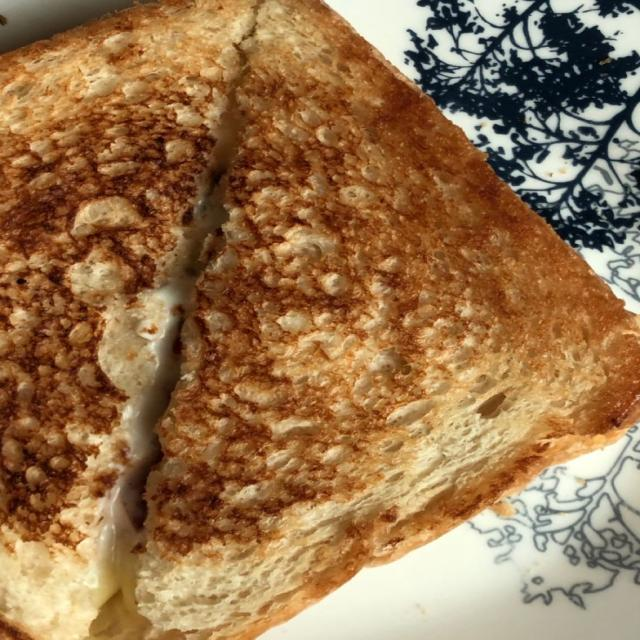toast bread: (137, 0, 639, 639), (0, 0, 250, 639)
